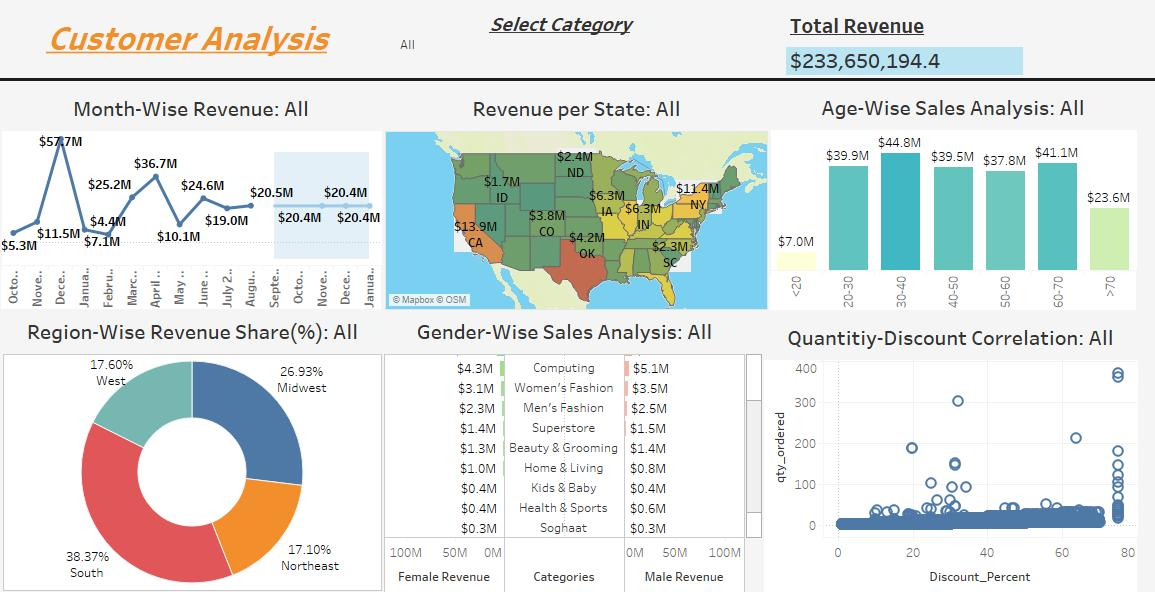

The dashboard page shown, as its layout file describes it:
{"tool":"tableau","page":{"name":"Customer Analysis","canvas":[1000,1000],"units":"permille","ordinal":0},"visuals":[{"type":"text","box":[5.8,3.8,316.7,117.5]},{"type":"worksheet","title":"Total Revenue","mark":"Automatic","box":[680.4,8.8,205.1,118.8]},{"type":"filter","title":"Revenue per Category ","param":"[federated.13fery70u6mup81342o2m1n1hm3y].[none:category:nk]","box":[344.9,15,283.3,102.5]},{"type":"worksheet","title":"Revenue per Age","mark":"Automatic","rows":["total"],"cols":["age (bin)"],"box":[666.7,147,316.9,376.7]},{"type":"worksheet","title":"Revenue per Month","mark":"Automatic","rows":["total"],"cols":["month"],"box":[0.9,148.7,329,375]},{"type":"worksheet","title":"Revenue per State","mark":"Multipolygon","box":[333.3,148.7,331.6,375]},{"type":"worksheet","title":"Revenue Rate per Region","mark":"Pie","rows":["Calculation_177329262176186369","Calculation_177329262176186369"],"box":[2.6,525.3,328.1,473]},{"type":"worksheet","title":"Revenue per Category ","mark":"Automatic","rows":["category"],"cols":["Calculation_177329262178963459","Calculation_177329262176186369","Calculation_177329262178738178"],"box":[332.5,525.3,328.1,476.4]},{"type":"worksheet","title":"Quantity - Discount Correlation","mark":"Automatic","rows":["qty_ordered"],"cols":["Discount_Percent"],"box":[661.5,535.5,322.9,464.5]}]}

Visuals, with their boxes on the dashboard's canvas, which has no fixed pixel size, in thousandths of its width and height (x1, y1, x2, y2). These are canvas units, not pixel positions in the 1155x592 screenshot, which may show the page scaled, cropped or inside an application window:
text: l=6, t=4, r=322, b=121
"Total Revenue" worksheet: l=680, t=9, r=886, b=128
"Revenue per Category " filter: l=345, t=15, r=628, b=118
"Revenue per Age" worksheet: l=667, t=147, r=984, b=524
"Revenue per Month" worksheet: l=1, t=149, r=330, b=524
"Revenue per State" worksheet (Multipolygon marks): l=333, t=149, r=665, b=524
"Revenue Rate per Region" worksheet (Pie marks): l=3, t=525, r=331, b=998
"Revenue per Category " worksheet: l=332, t=525, r=661, b=1002
"Quantity - Discount Correlation" worksheet: l=662, t=536, r=984, b=1000
